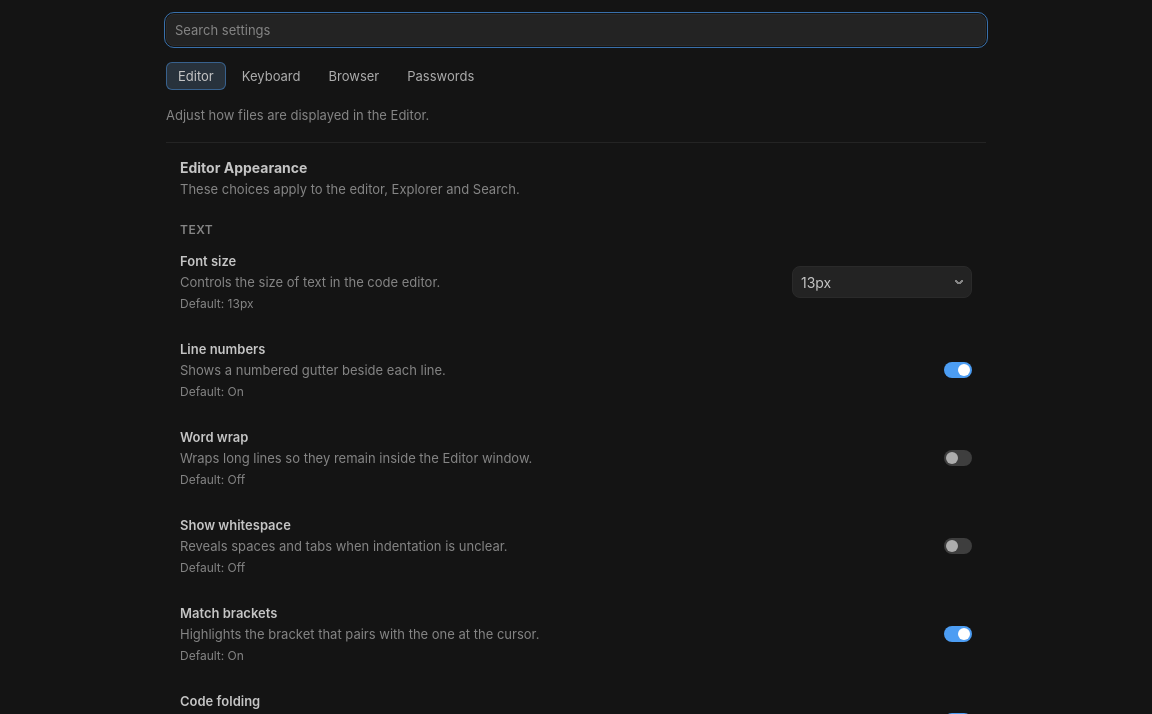
Scenario: SettingsSurface › filters individual rows while preserving the matching group
Type "whitespace" into the search field. click: (576, 30)
box: x1=166 y1=14 x2=986 y2=46
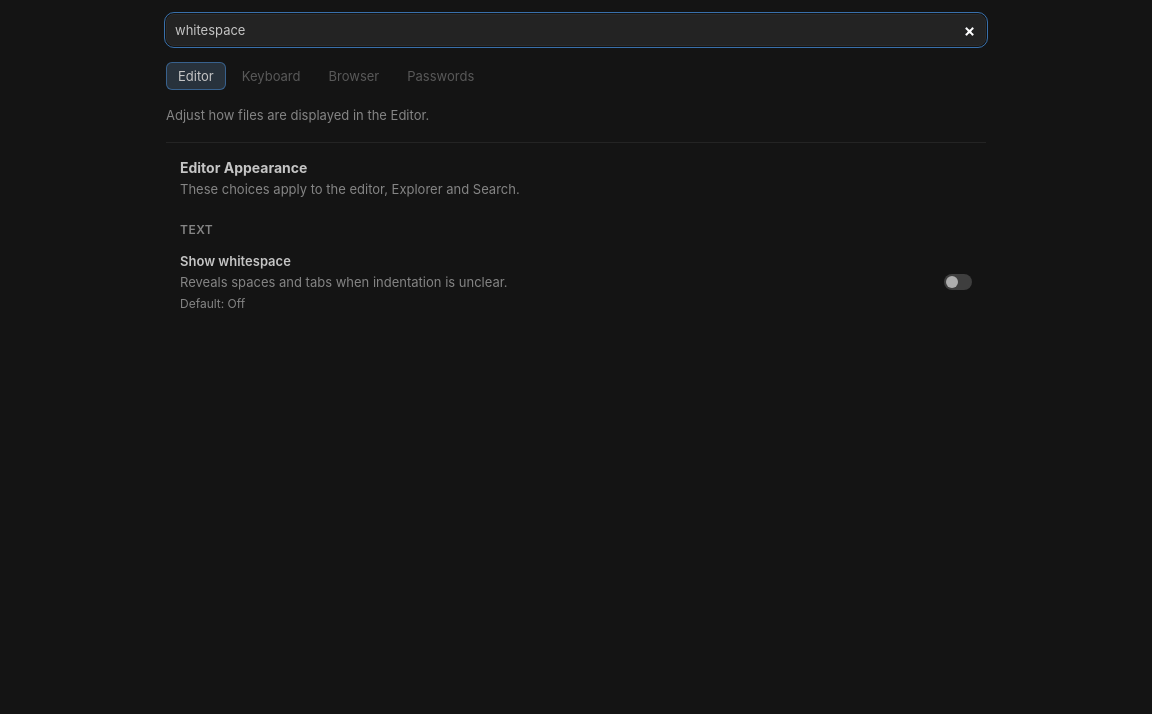
Expected: the element "Text" is shown, x1=166 y1=210 x2=986 y2=329
Result: the label labelled "Font size" is gone
Replace the text in the search field with "numbered". click: (576, 30)
box: x1=166 y1=14 x2=986 y2=46
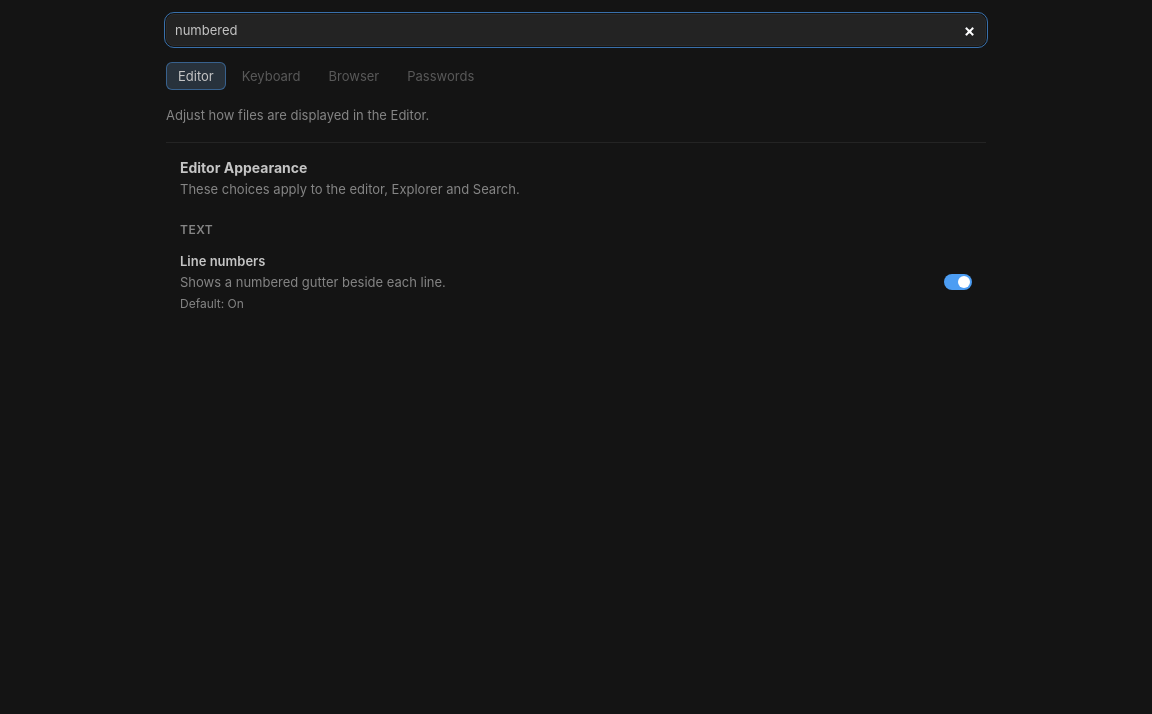
Result: the switch labelled "Line numbers" is shown at x1=944 y1=274 x2=972 y2=290
Result: the label labelled "Show whitespace" is gone
Replace the text in the search field with "unclear". click: (576, 30)
box: x1=166 y1=14 x2=986 y2=46
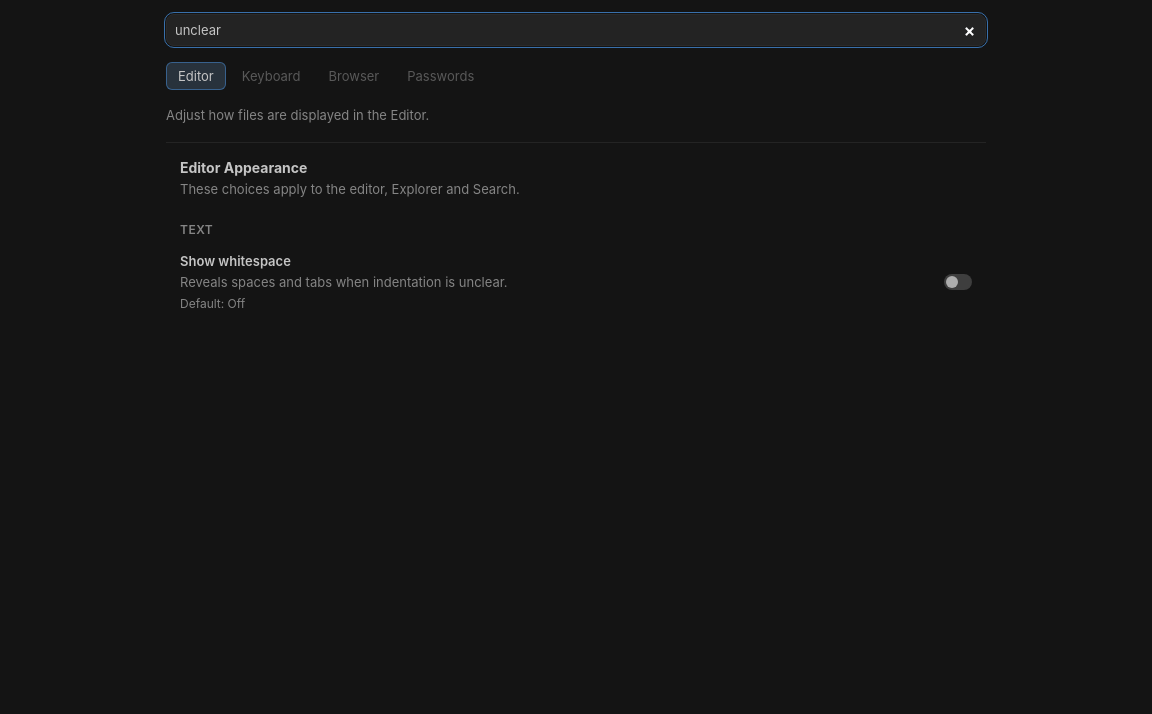
Result: the switch labelled "Show whitespace" is shown at x1=944 y1=274 x2=972 y2=290
Result: the label labelled "Line numbers" is gone
Replace the text in the search field with "tab size". click: (576, 30)
box: x1=166 y1=14 x2=986 y2=46
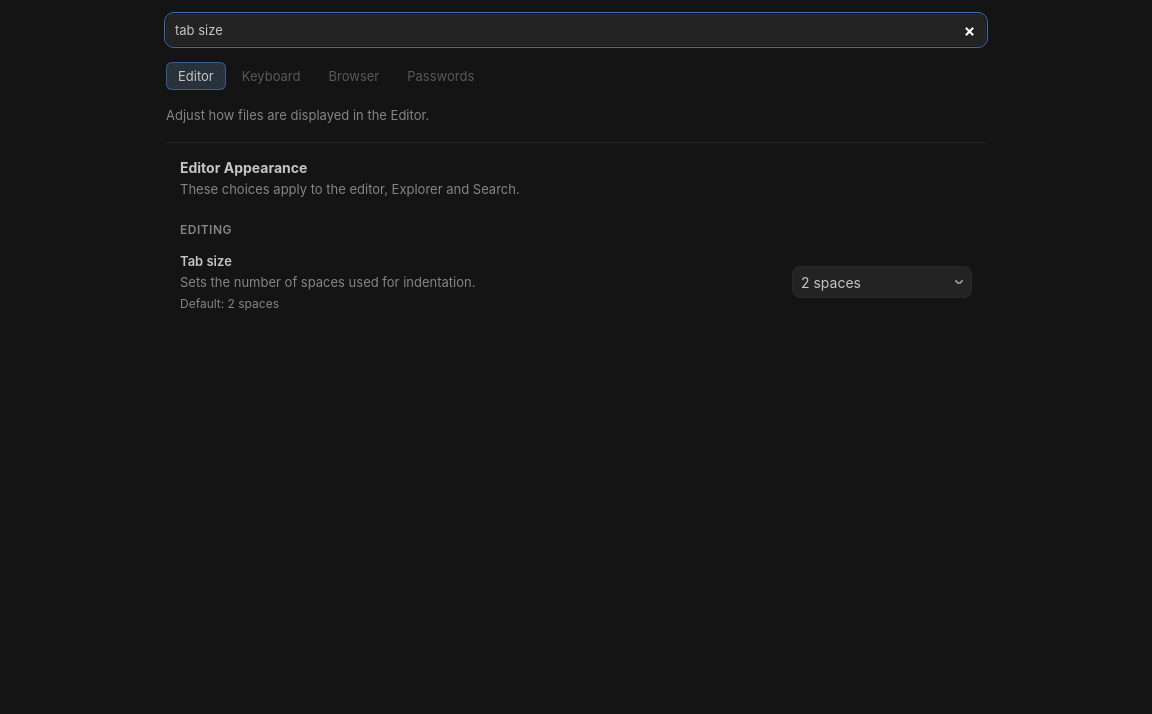
Result: the element "Editing" is shown at x1=166 y1=210 x2=986 y2=329
Result: the dropdown labelled "Tab size" is shown at x1=792 y1=266 x2=972 y2=298
Result: the heading "Text" is gone
Replace the text in the search field with "reset". click: (576, 30)
box: x1=166 y1=14 x2=986 y2=46
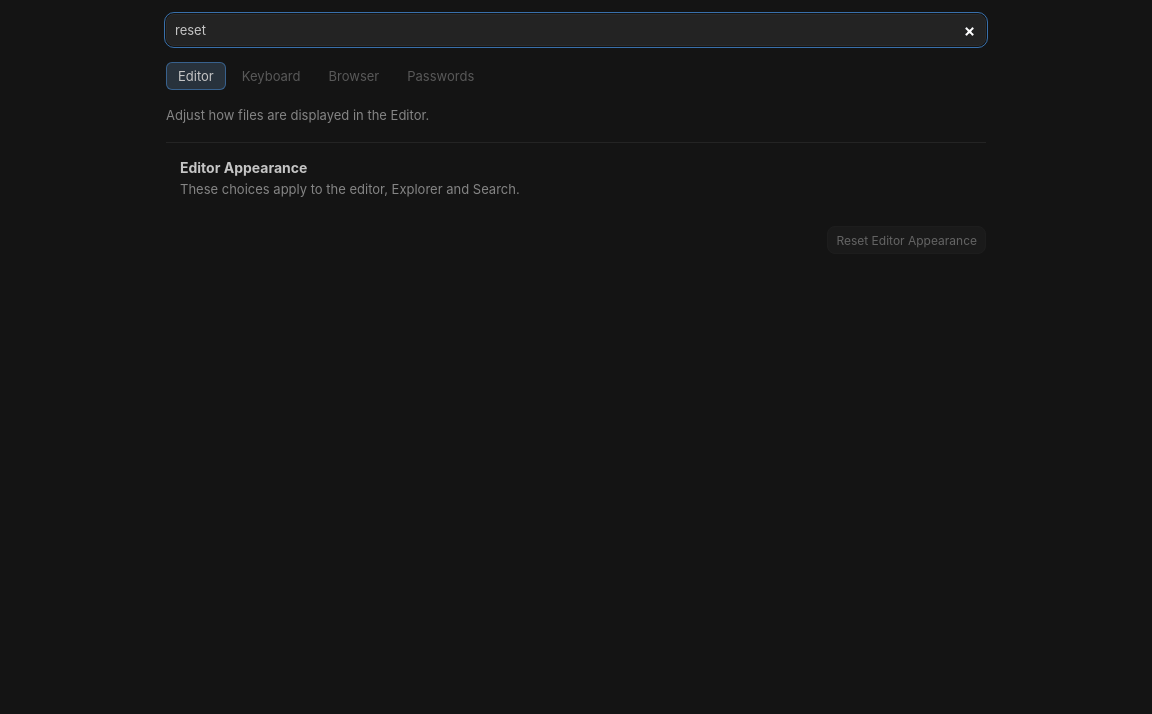
Result: the button "Reset Editor Appearance" is shown at x1=827 y1=226 x2=986 y2=254
Replace the text in the search field with "account". click: (576, 30)
box: x1=166 y1=14 x2=986 y2=46
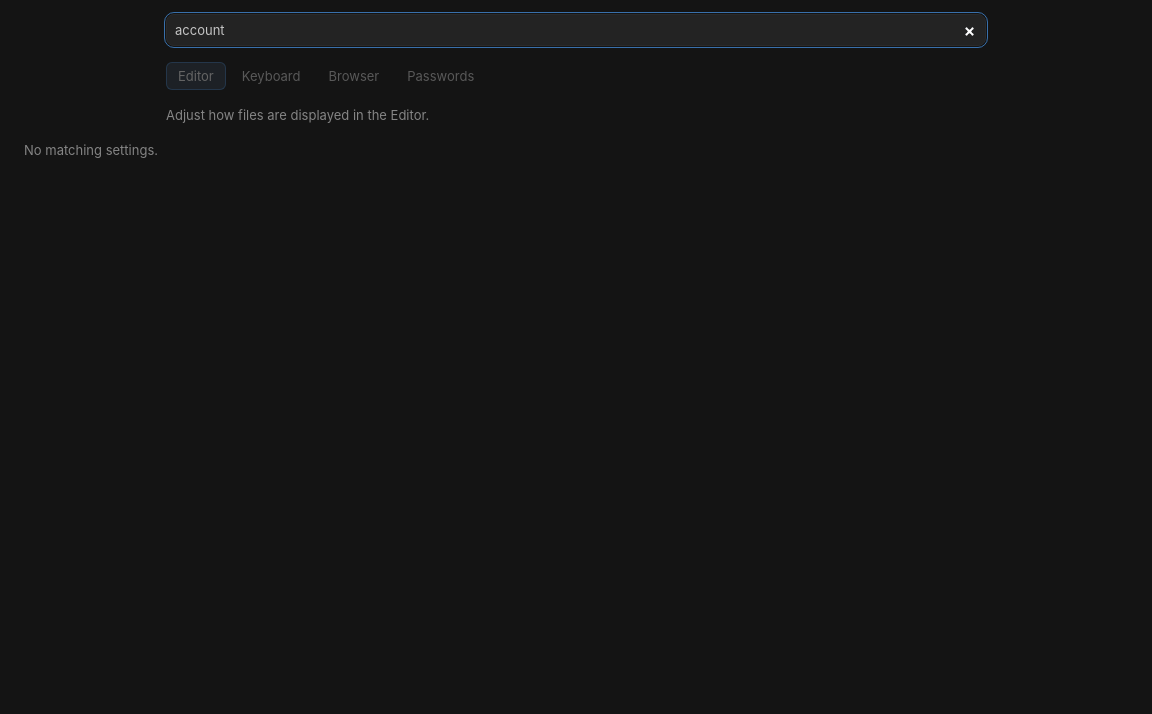
Result: the message reads "No matching settings." at x1=24 y1=142 x2=158 y2=158
